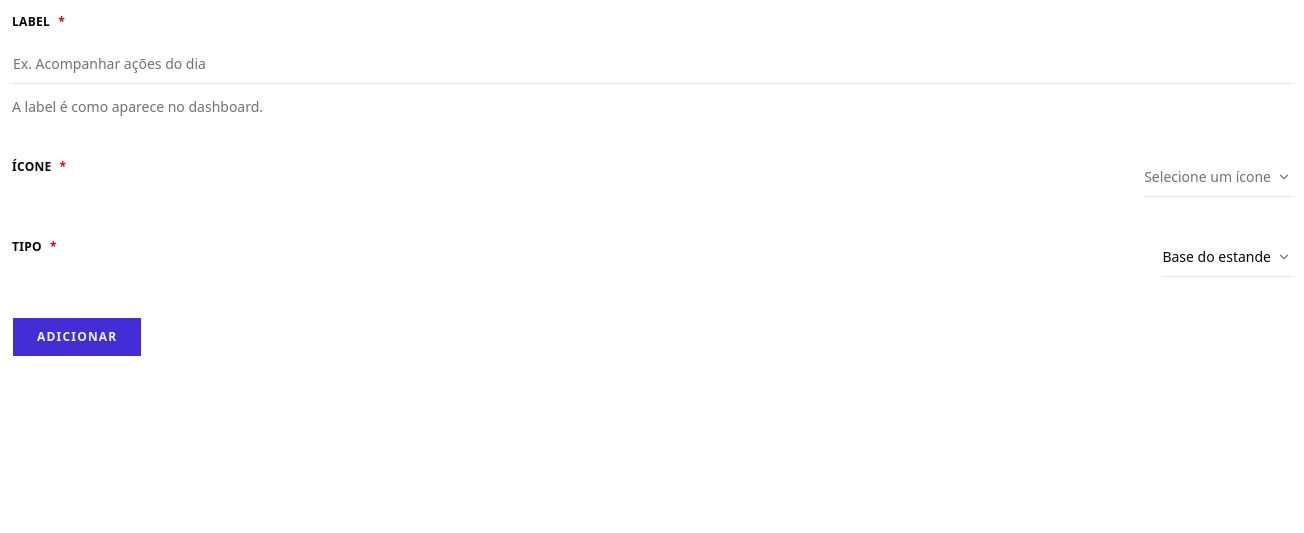
ChecklistItemCreateForm › campos de horário (rotina diária) › exibe campos de horário quando tipo é Rotina diária
This screenshot has width=1304, height=533.
Click the dropdown named "tipo" at (1227, 256), box [1161,236,1292,276]
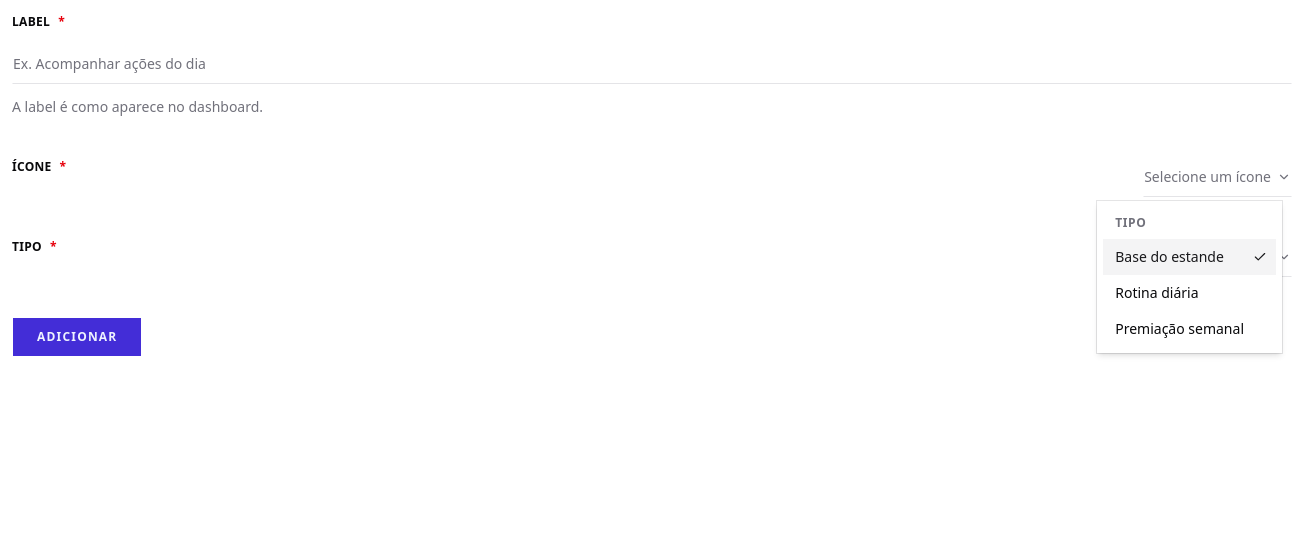
Click the option "Rotina diária" at (1157, 292), box [1115,282,1198,302]
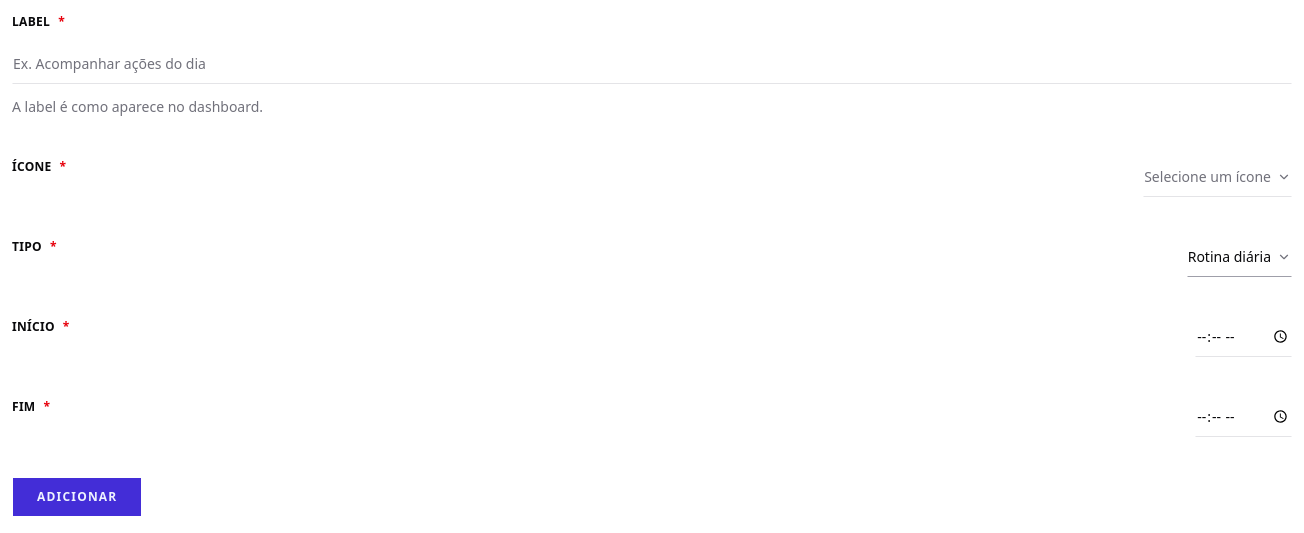
Expected: the time field labelled "Início *" is shown, [1195,316,1292,356]
Expected: the time field labelled "Fim *" is shown, [1195,396,1292,436]
